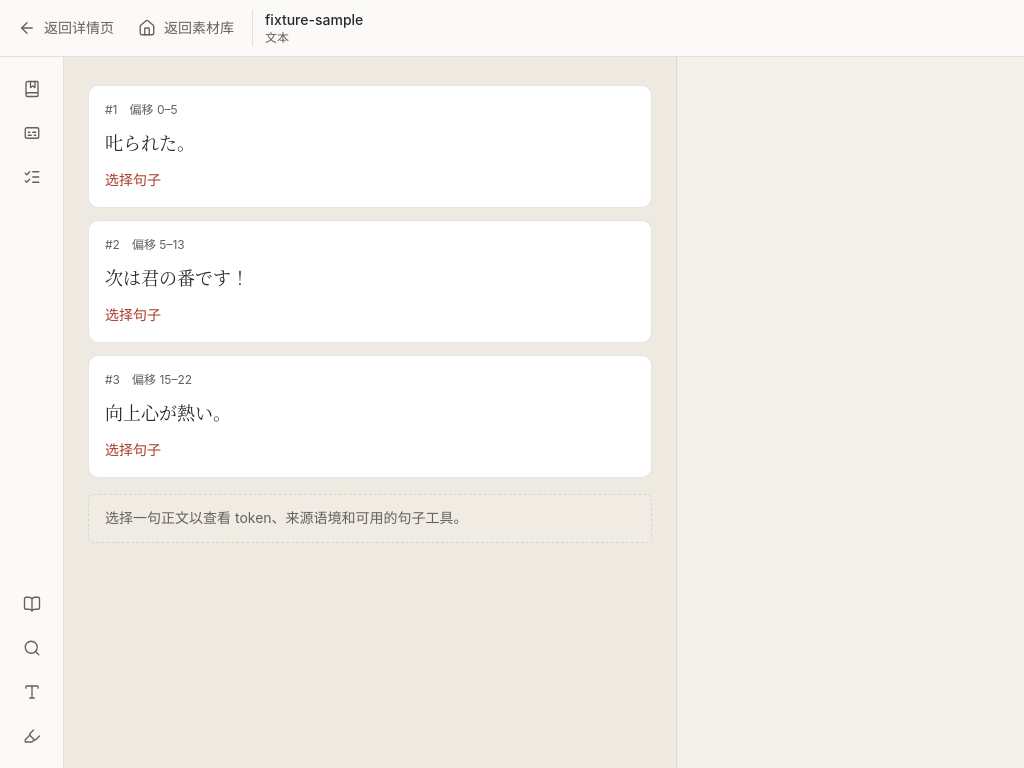
Scenario: ReaderWorkspace RF-02 boundary › updates the same dictionary panel in place for the next token and reports no match
Click the button "选择句子" below "偏移 5–13". click: [133, 315]
box: left=105, top=305, right=161, bottom=325
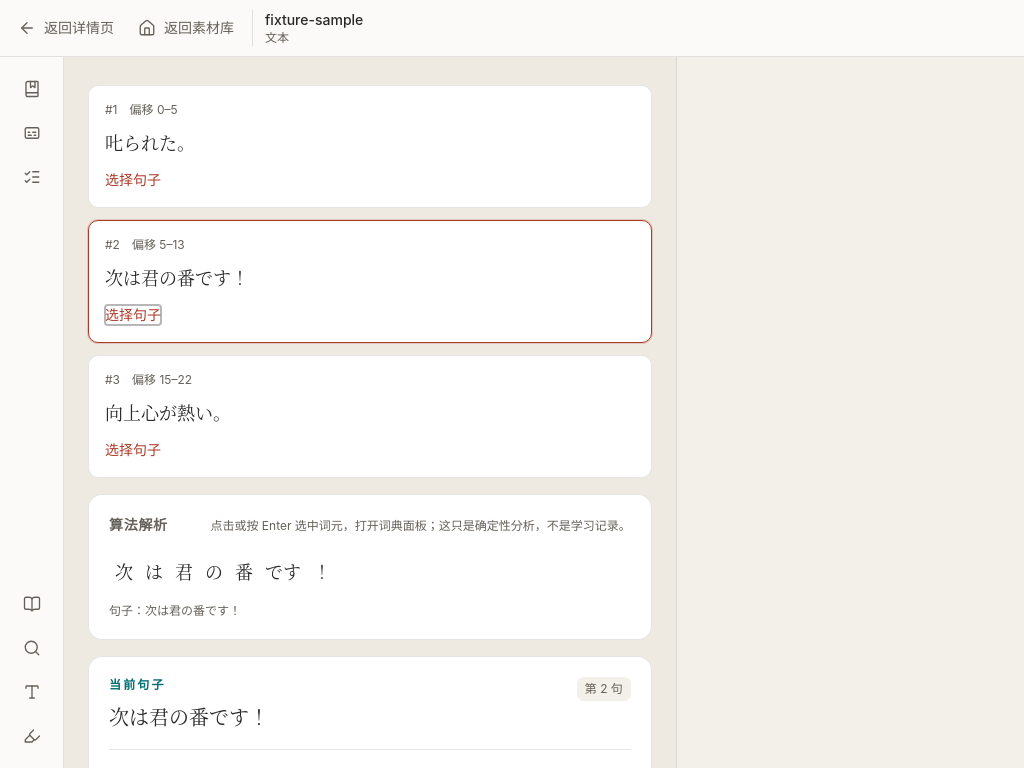
Click the button named "君，读音 キミ". click: [184, 571]
box: left=171, top=551, right=197, bottom=591
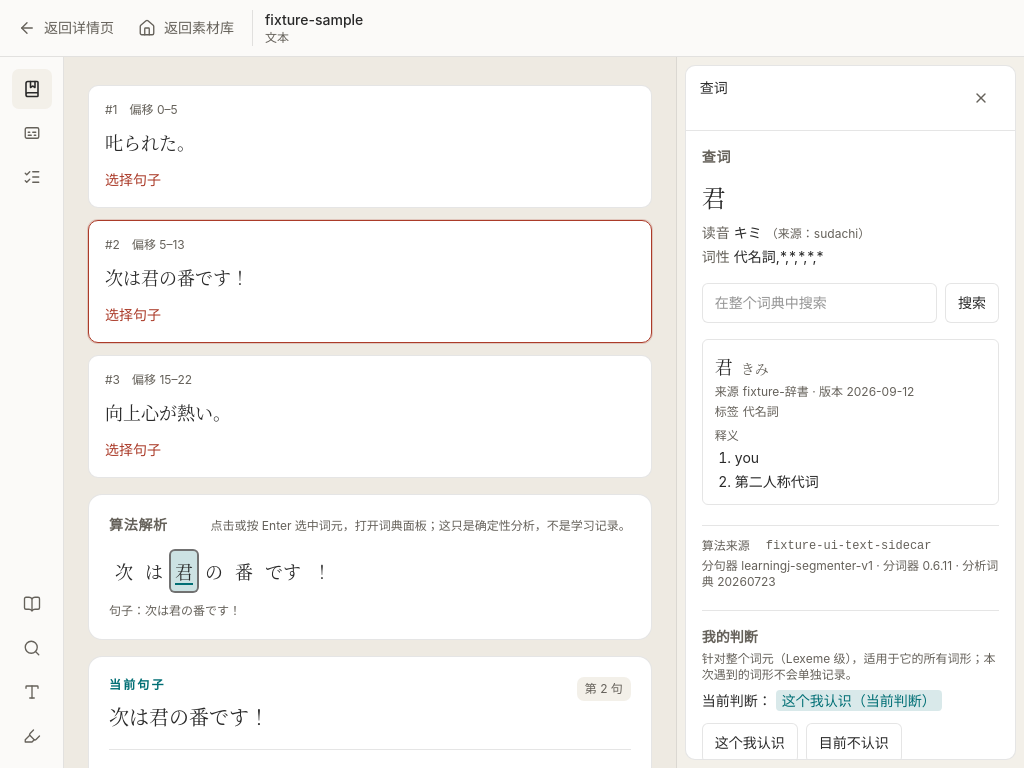
Result: the element "查词" shows "you" at left=735, top=449, right=759, bottom=466
Click the button named "次，读音 ツギ". click: [124, 571]
box: left=111, top=551, right=137, bottom=591
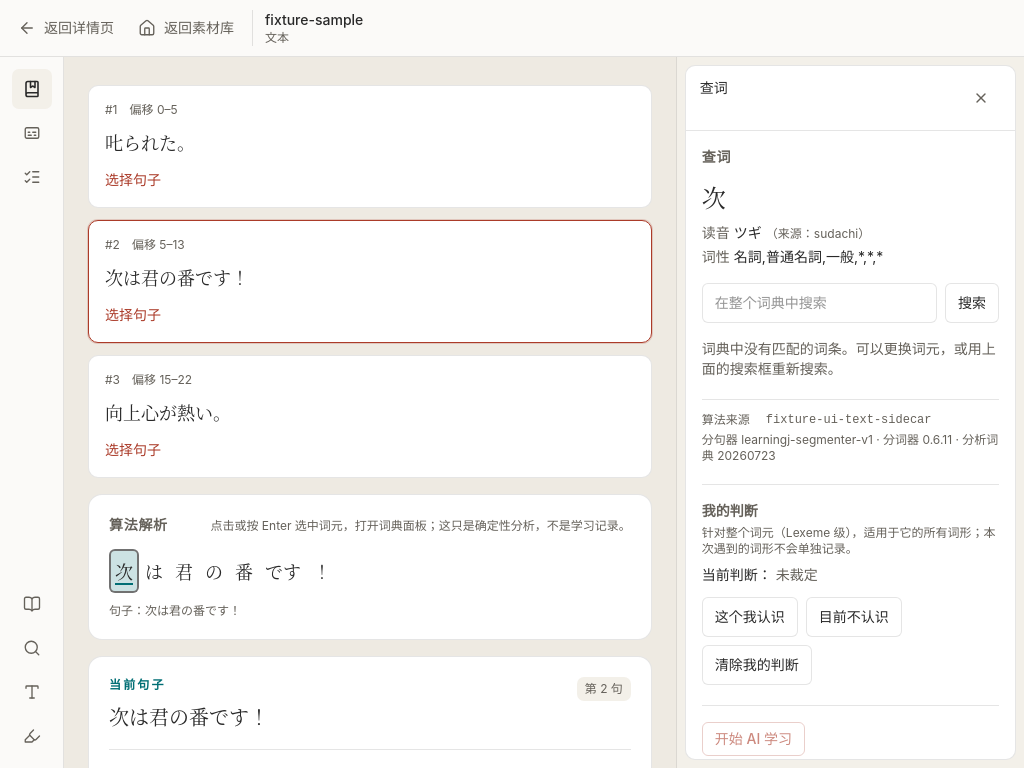
Result: the element "查词" shows "次" at left=702, top=179, right=726, bottom=214
Result: the text "词典中没有匹配的词条。可以更换词元，或用上面的搜索框重新搜索。" is shown at left=702, top=339, right=999, bottom=379
Result: the element "查词" no longer shows "you" at left=685, top=65, right=1016, bottom=760
